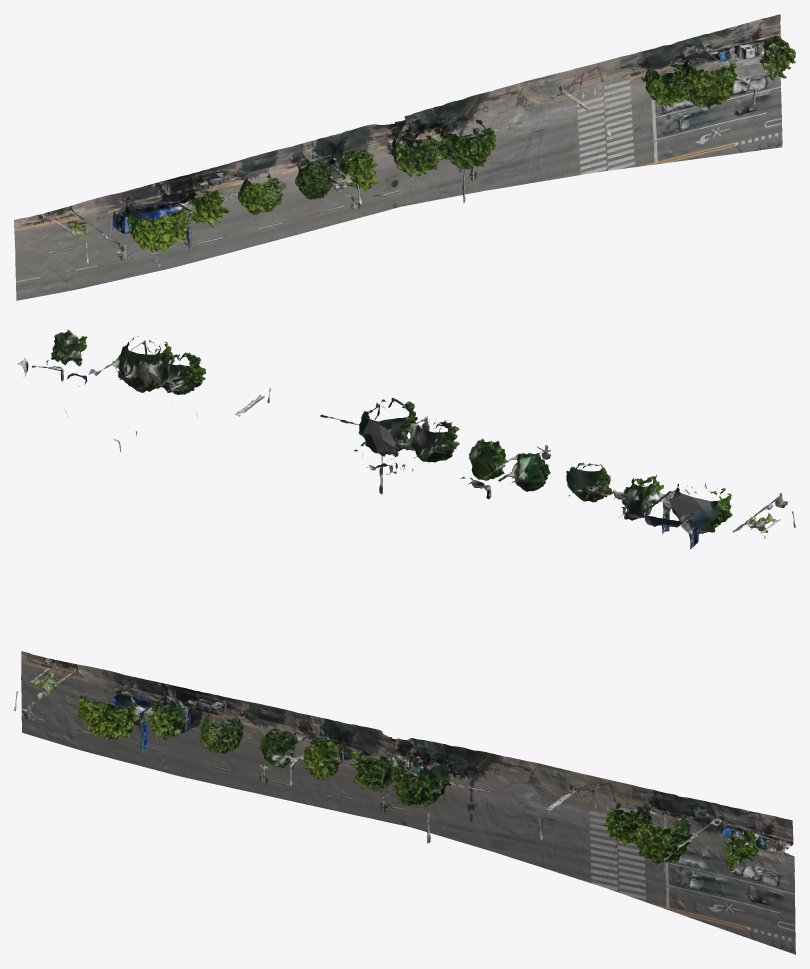
The model's file is Tile_+002_+001.obj_deoffset.glb.
The picture shows the model from 3 angles, top to bottom: view 1: azimuth 30°, elevation 25°; view 2: azimuth 150°, elevation 25°; view 3: azimuth 330°, elevation 25°; orthographic projection.
Visible parts, largest first — view 1: Node; view 2: Node; view 3: Node.
Part boxes in pixels (left/top/right/bottom): Node: left=14, top=14, right=795, bottom=300; Node: left=18, top=329, right=795, bottom=548; Node: left=14, top=651, right=795, bottom=954.
Bounding box in the file's own units: 114 × 19.02 × 14.43.
Materials: 1 (1 with a texture image).
